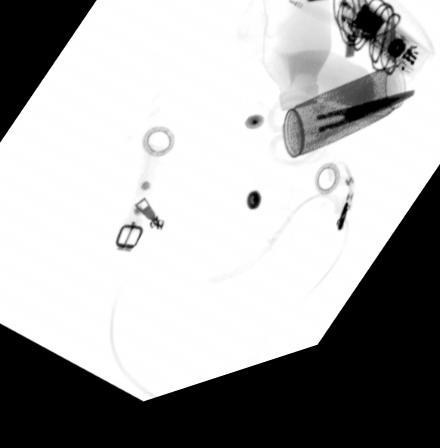Scissors: (262, 112, 413, 188)
